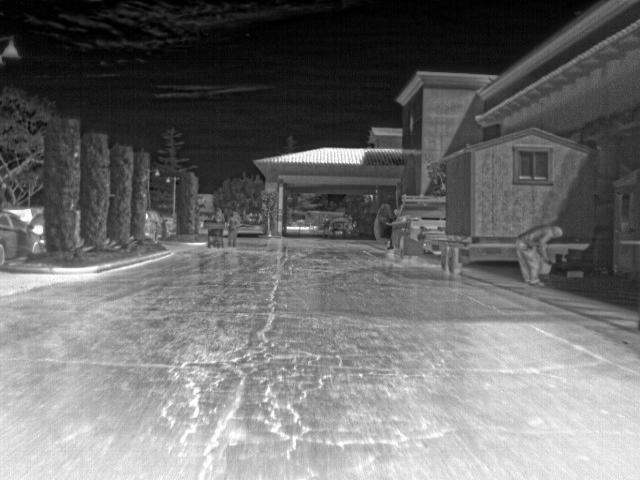car: (389, 192, 443, 259), (24, 210, 45, 251), (144, 207, 165, 238), (0, 210, 29, 229), (8, 206, 38, 220)
person: (518, 221, 563, 284), (224, 211, 239, 247), (209, 205, 223, 223)
